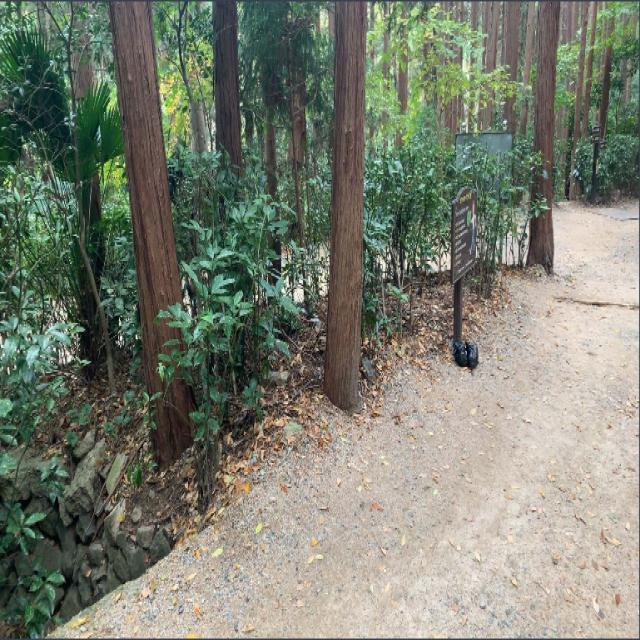Trashbag: (440, 337, 479, 375)
